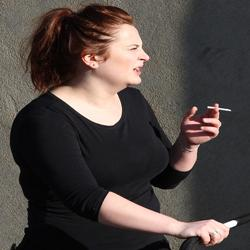smoking: (181, 102, 232, 145)
